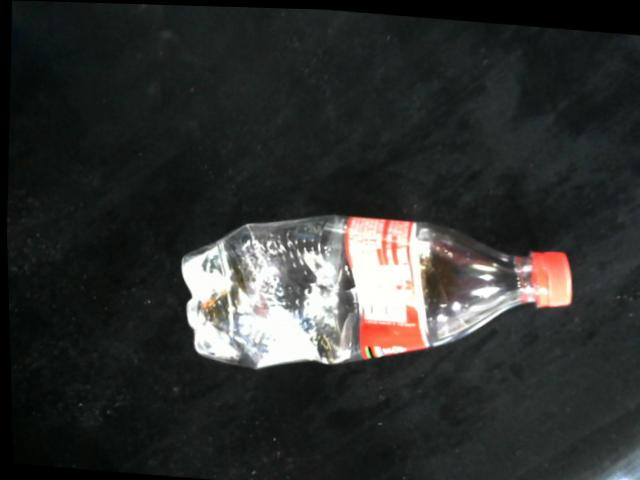bottle: (179, 211, 572, 370)
